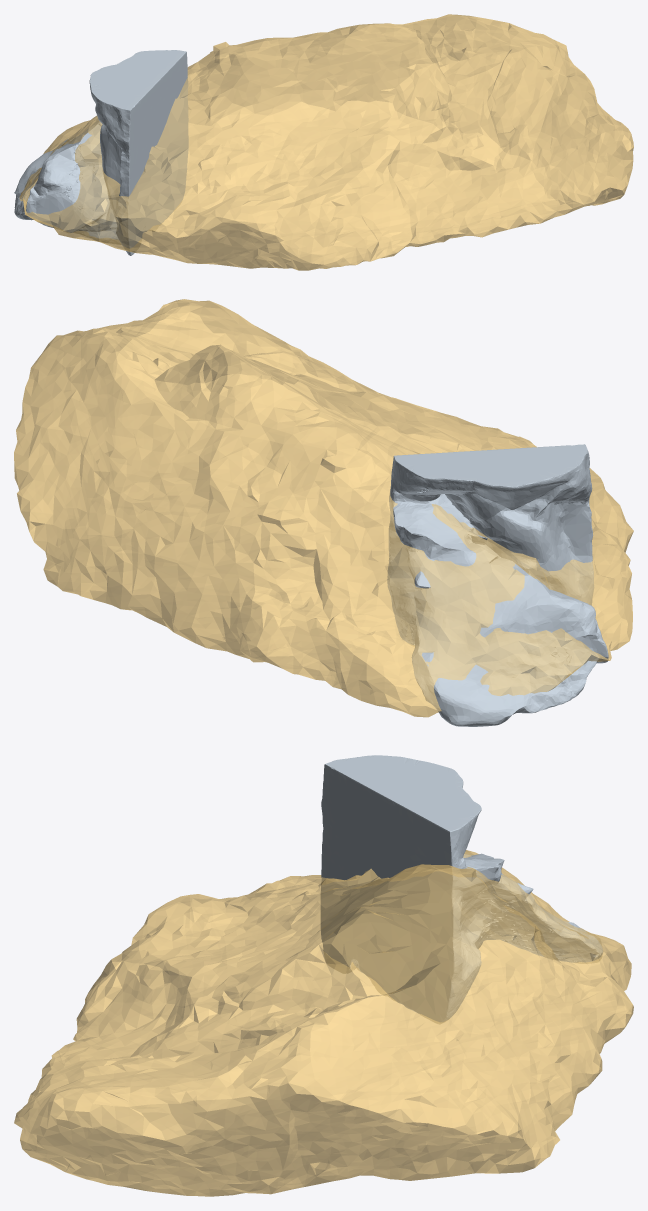
The picture shows the model from 3 angles, top to bottom: view 1: azimuth 30°, elevation 25°; view 2: azimuth 150°, elevation 25°; view 3: azimuth 270°, elevation 25°; orthographic projection. The views are drawn at different scales.
Parts seen in each view (by area): view 1: truth, imagination; view 2: truth, imagination; view 3: truth, imagination.
Boxes of the visible parts, <box> form: truth: <box>19,14,633,270</box>; imagination: <box>14,50,188,255</box>; truth: <box>14,299,633,717</box>; imagination: <box>387,444,608,726</box>; truth: <box>14,850,633,1196</box>; imagination: <box>321,755,602,1023</box>.
Bounding box in the file's own units: 1.29 × 0.4165 × 1.04.
